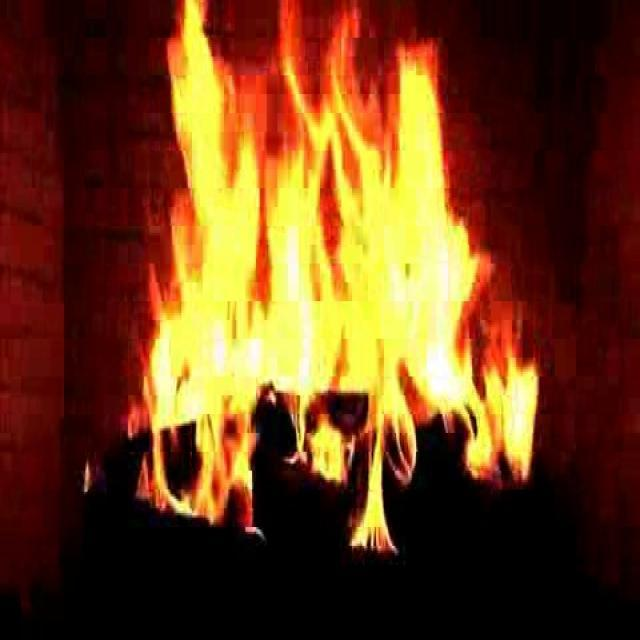Fire: (130, 8, 531, 509)
